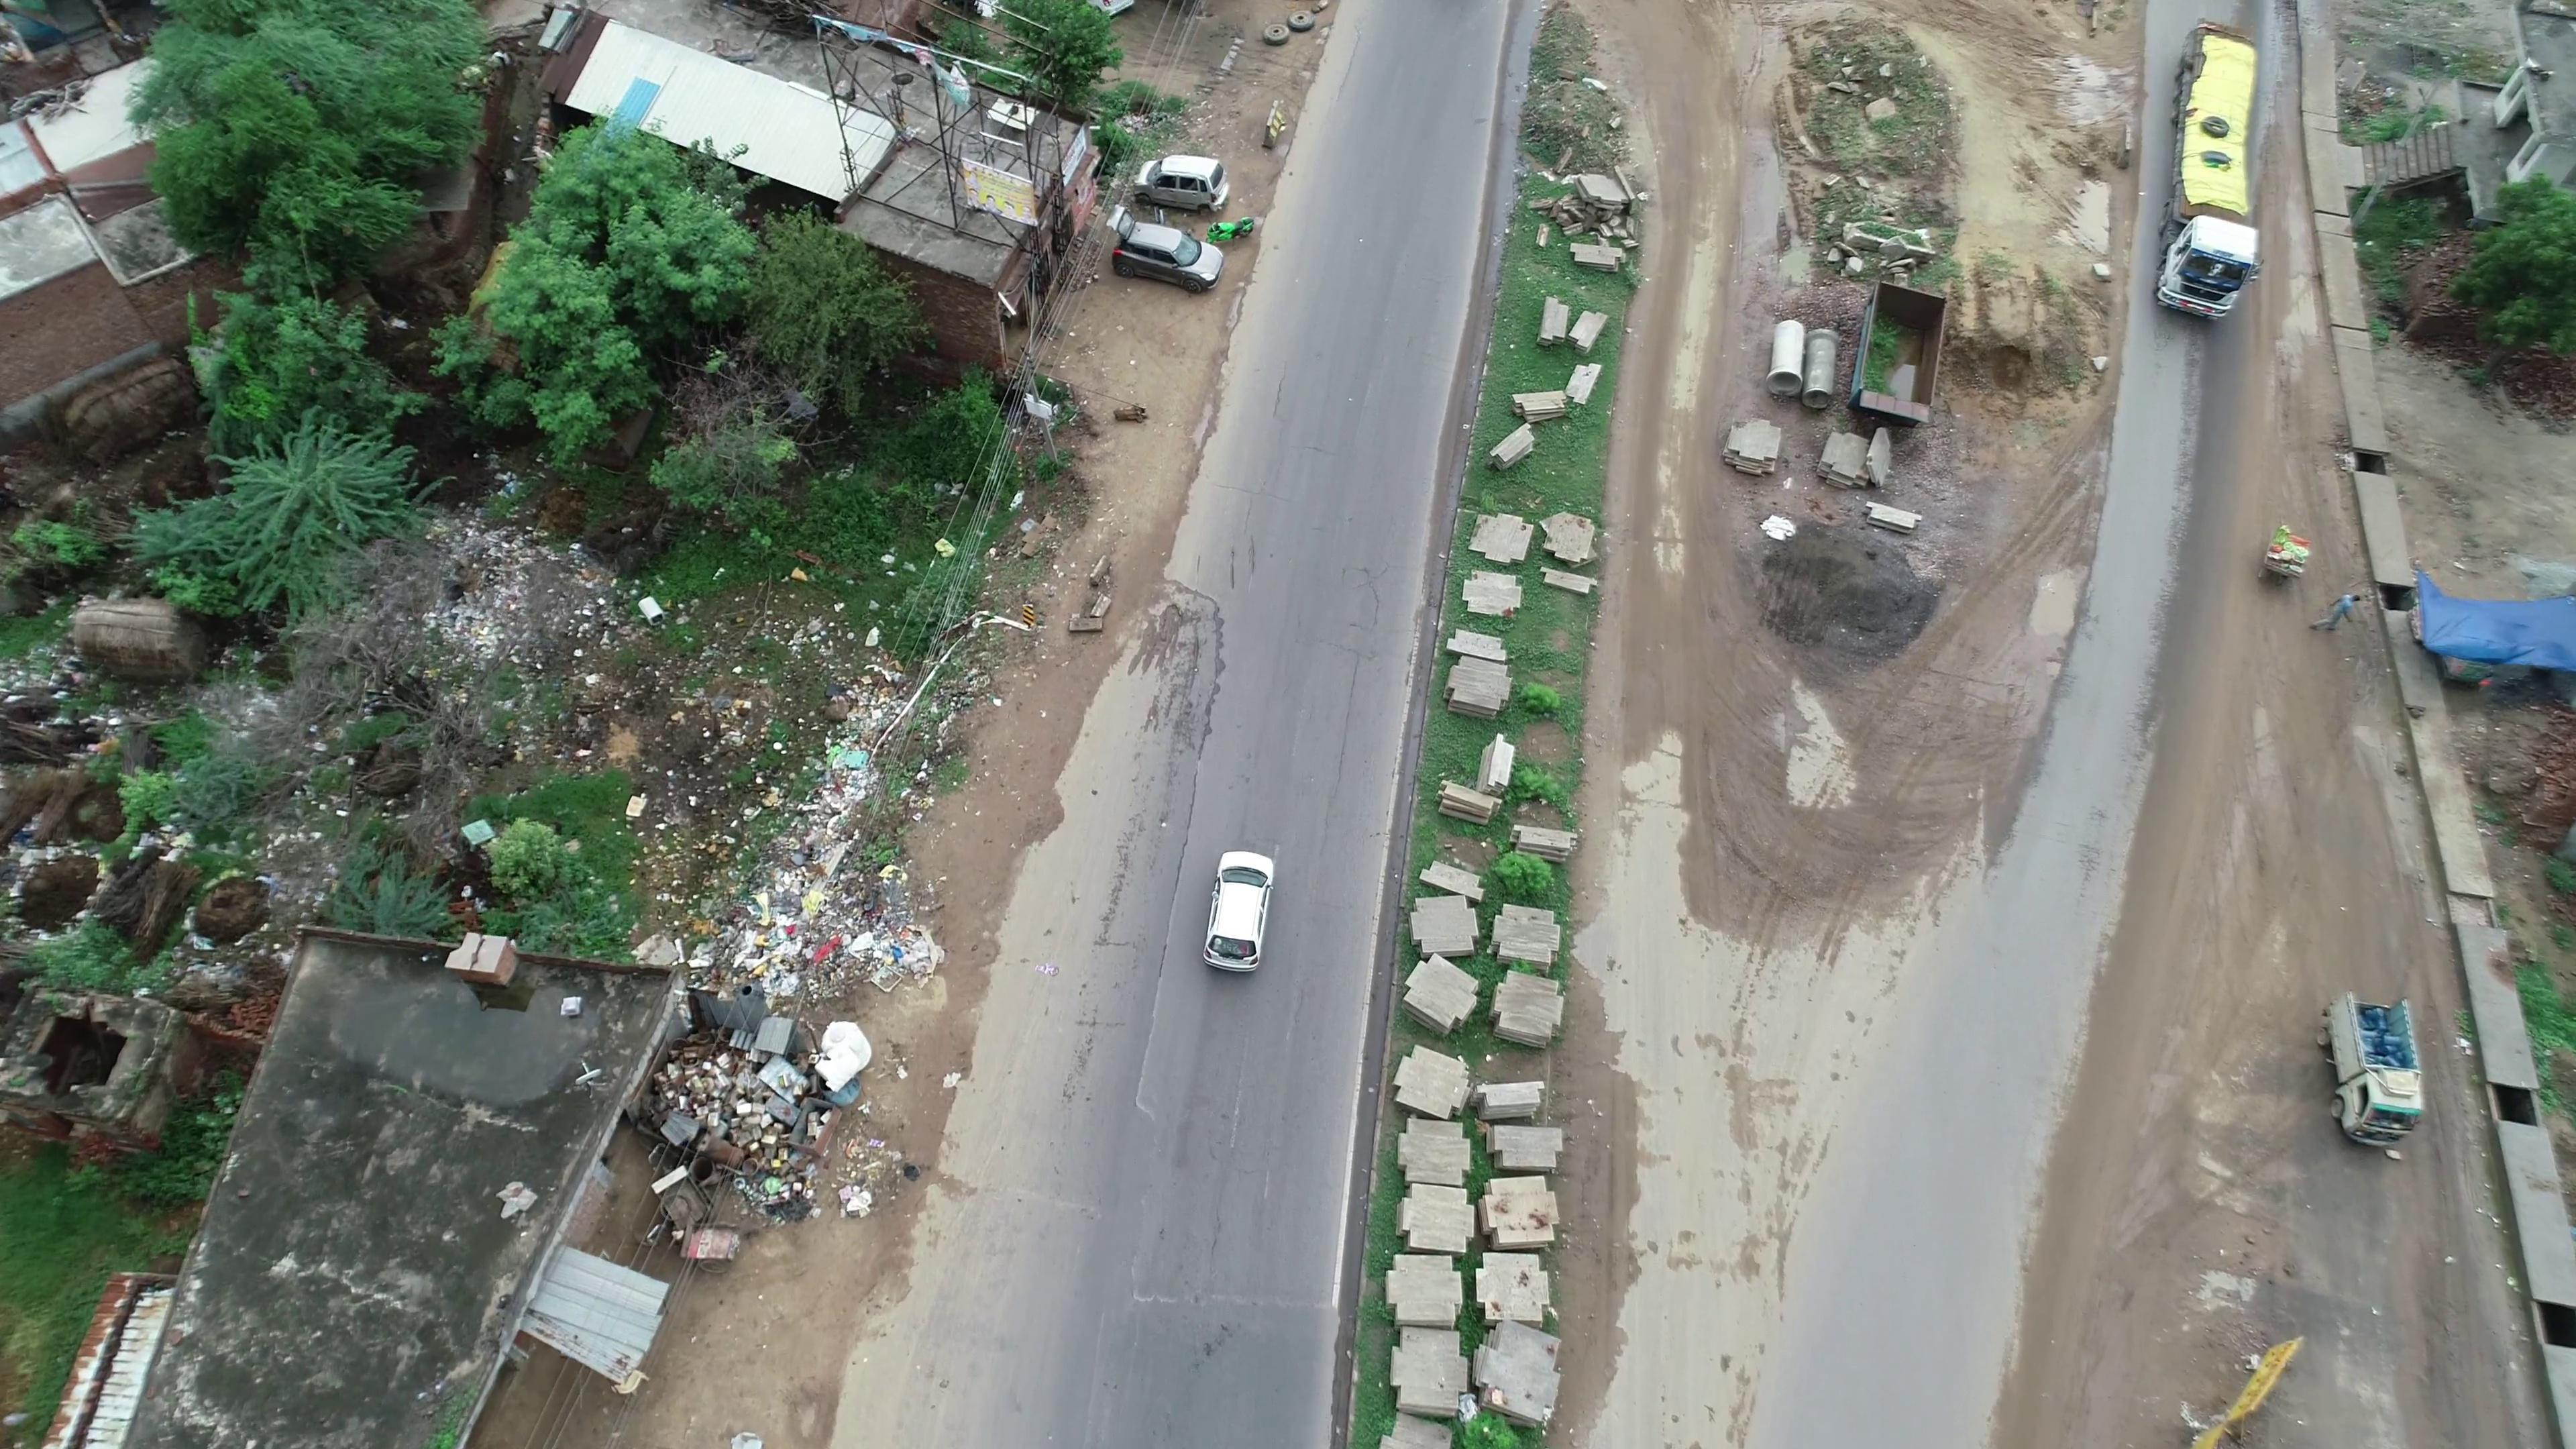Muddy_road: (1665, 717, 2020, 952)
